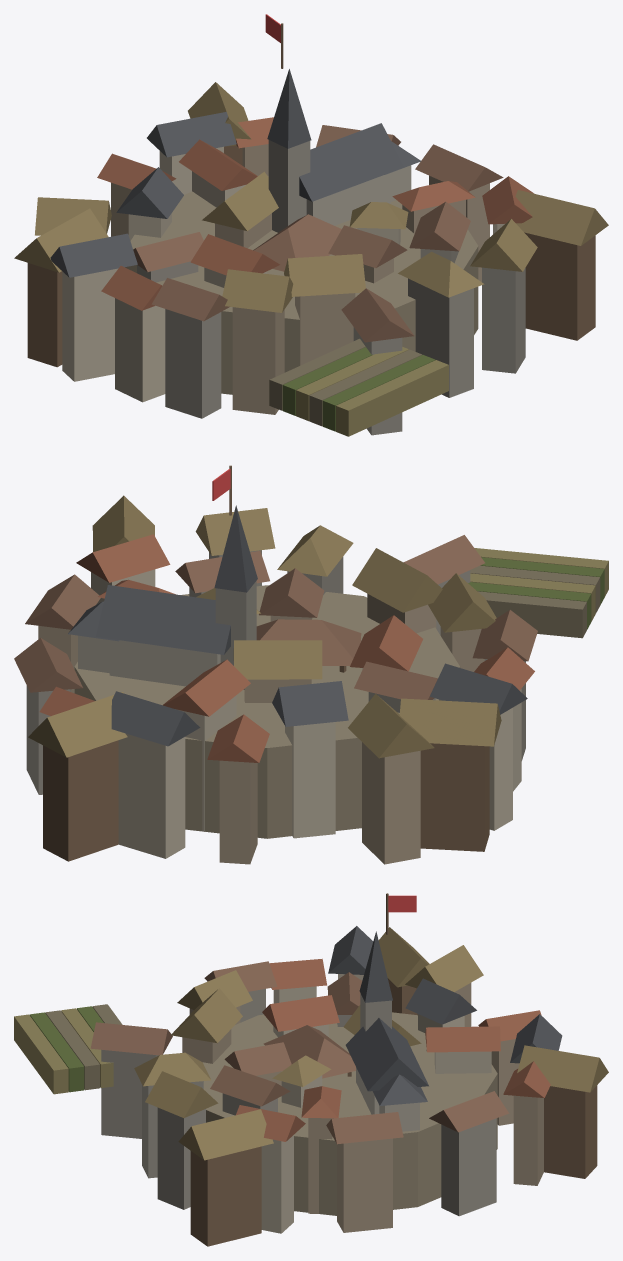
The model's file is bourg_a.glb.
3 renders of one model, top to bottom at view 1: azimuth 30°, elevation 25°; view 2: azimuth 150°, elevation 25°; view 3: azimuth 270°, elevation 25°, orthographic. The views are drawn at different scales.
Parts seen in each view (by area): view 1: bourg_a; view 2: bourg_a; view 3: bourg_a.
Part boxes in pixels (x1,y1,x2,y2): bourg_a: (14,14,608,436); bourg_a: (14,465,608,864); bourg_a: (14,893,608,1246).
Size of the model in its own units: 2.25 by 1.27 by 2.66.
